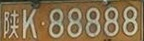K: (23, 9, 37, 38)
